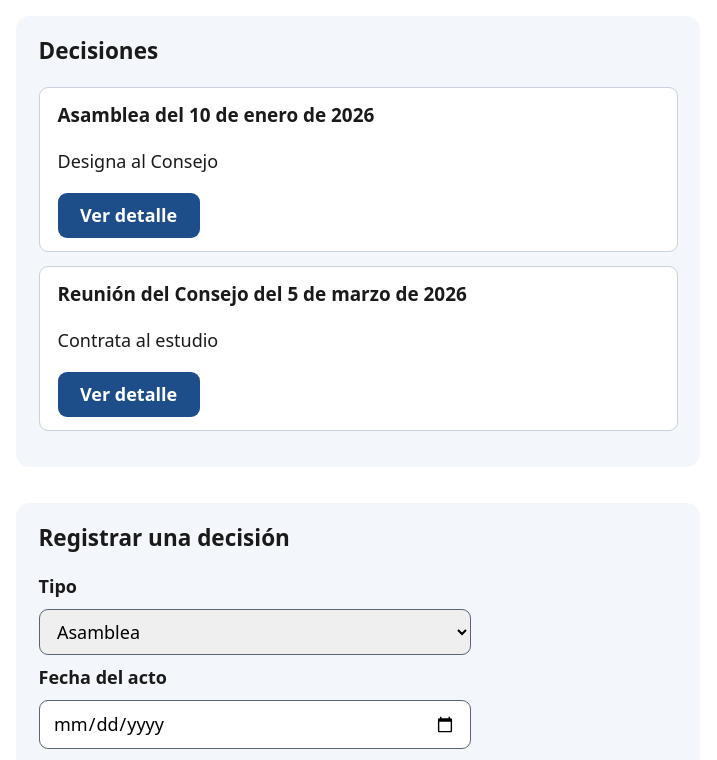
Test: página /mandatos › el detalle de una decisión dice si la registraste vos, sin decir quién
(page scrolled)
Click the button "Ver detalle" below "Reunión del Consejo". click: (129, 394)
box: [58,372,200,416]
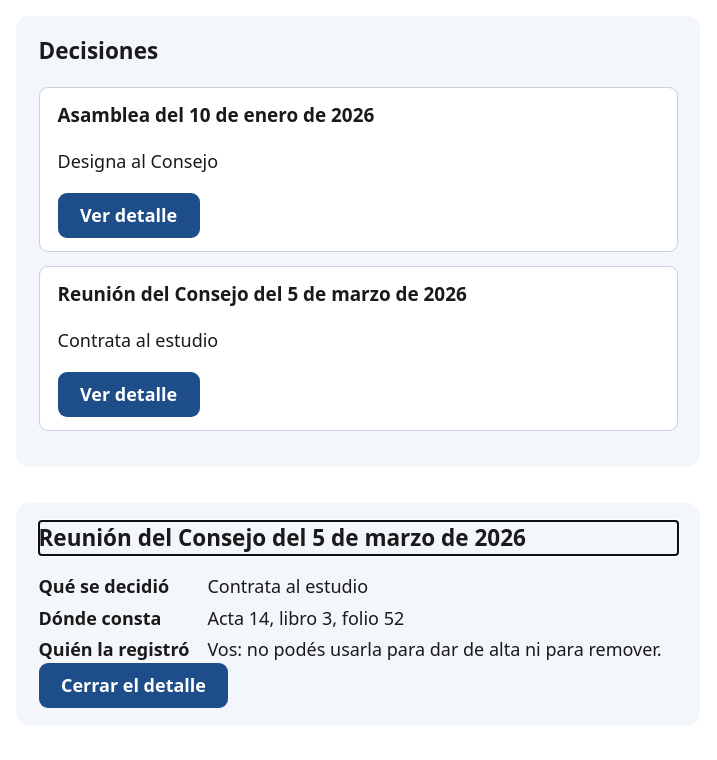
Expected: the text "Acta 14, libro 3, folio 52" is shown, [207,606,404,630]
Expected: the text "Vos: no podés usarla para dar de alta ni para remover." is shown, [207,636,678,663]
